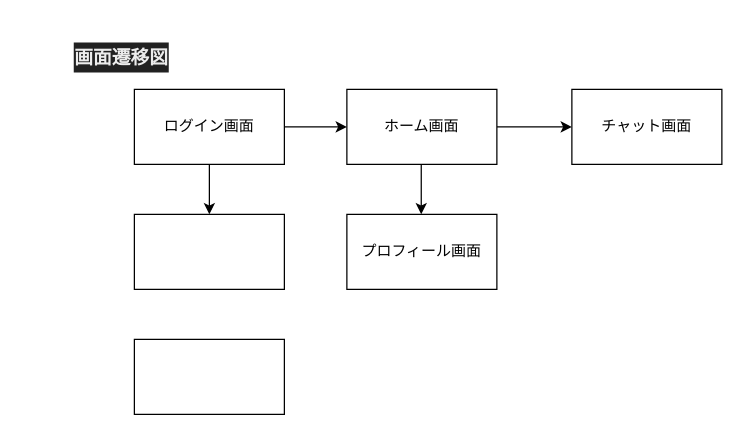
The diagram is 744 pixels wide and 436 high, and some of its shapes have lost their labels. The centre of each missing label's shape, as x and y in pixels:
"パスワードリセット画面" belongs at point 208,376.
"ユーザー登録画面" belongs at point 208,251.
